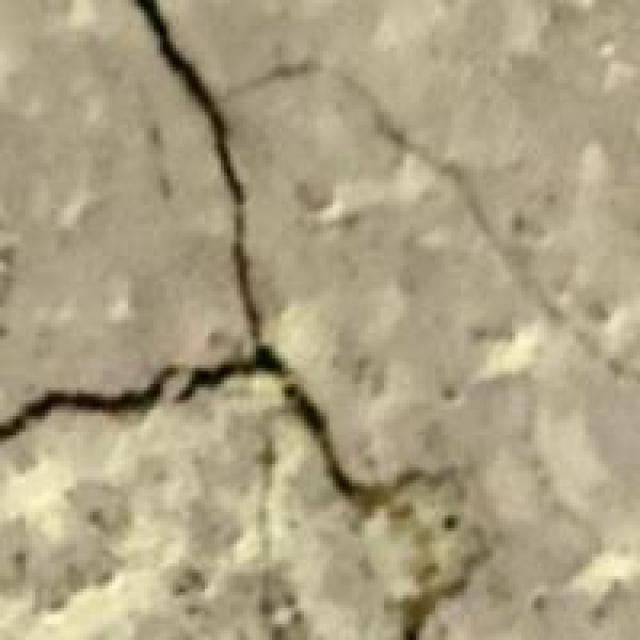crack: (3, 0, 445, 563)
